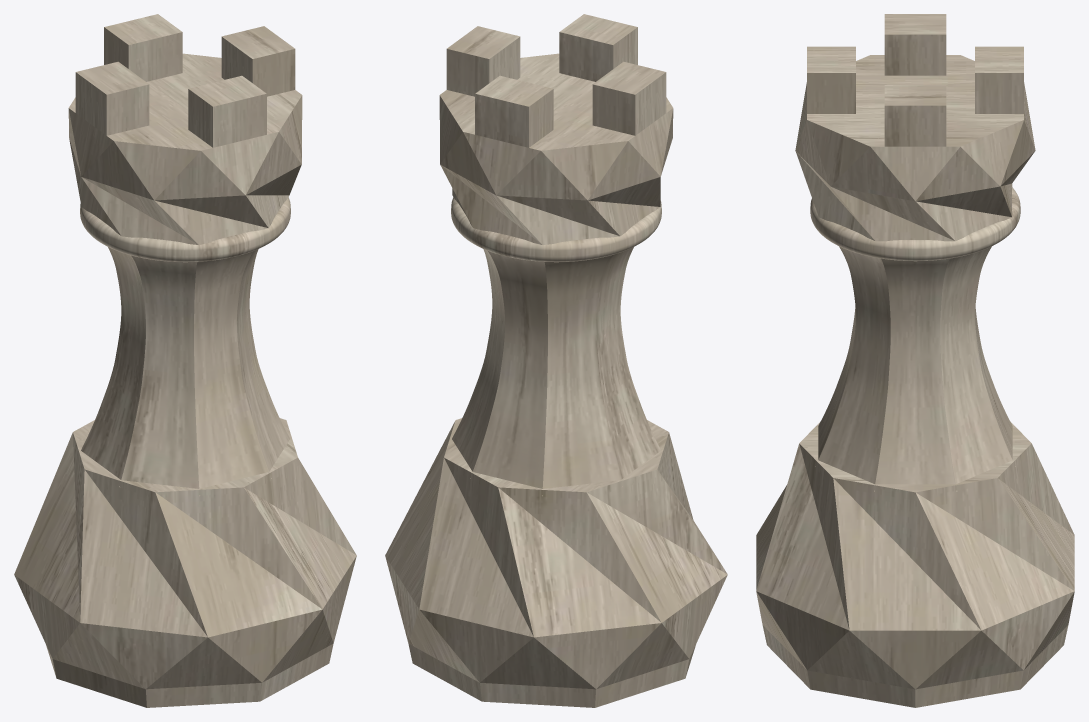
File: lithoxyl_rook_white.glb
3 views of the same model, side by side, from view 1: azimuth 30°, elevation 25°; view 2: azimuth 150°, elevation 25°; view 3: azimuth 270°, elevation 25° (orthographic).
Visible parts, largest first — view 1: Lithoxyl_Rook_Ivory; view 2: Lithoxyl_Rook_Ivory; view 3: Lithoxyl_Rook_Ivory.
Part boxes in pixels (x1,y1,x2,y2): Lithoxyl_Rook_Ivory: (14, 14, 356, 707); Lithoxyl_Rook_Ivory: (385, 14, 727, 707); Lithoxyl_Rook_Ivory: (756, 14, 1074, 707).
Bounding box in the file's own units: 0.0286 × 0.058 × 0.0286.
Materials: 1 (1 with a texture image).
